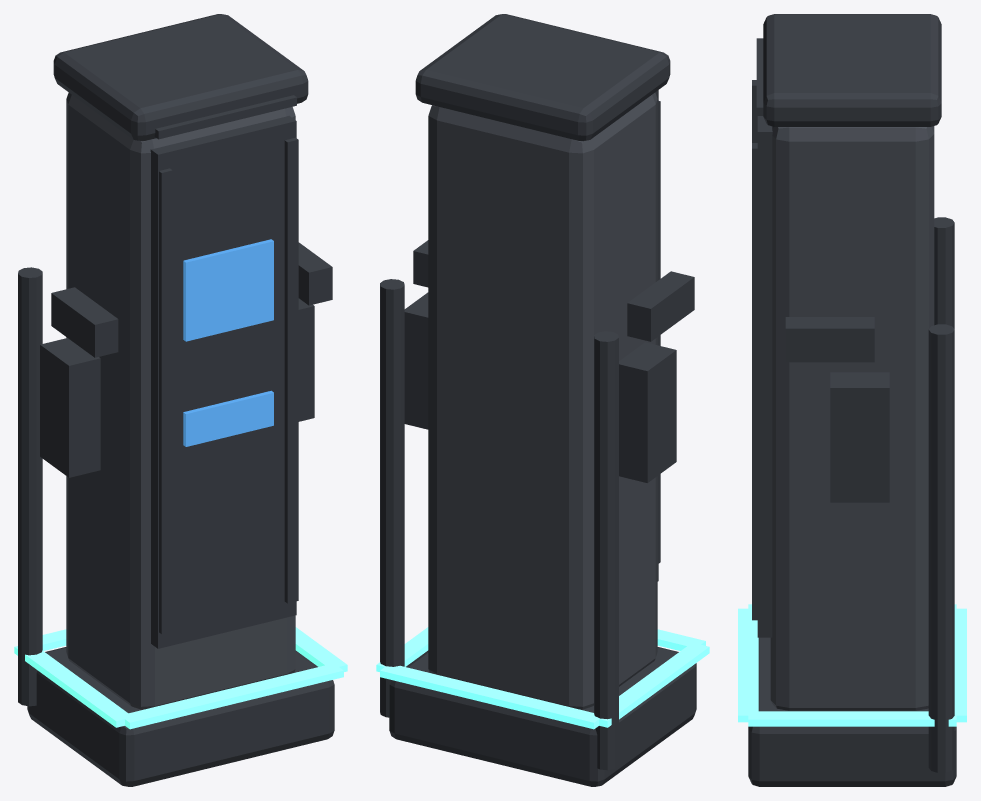
The model's file is charging_pile.glb.
3 views of the same model, side by side, from view 1: azimuth 30°, elevation 25°; view 2: azimuth 150°, elevation 25°; view 3: azimuth 270°, elevation 25° (orthographic). The views are drawn at different scales.
Parts seen in each view (by area): view 1: part_face, part_body, part_cap, part_base, part_cable_0, part_holster_0, part_screen, part_led_side_r, part_led_side_l, part_base_outline_x0, part_screen2, part_gun_0 (+5 smaller); view 2: part_body, part_cap, part_base, part_cable_0, part_cable_1, part_holster_0, part_base_outline_x1, part_gun_0, part_holster_1, part_base_outline_z0, part_led_side_l, part_base_outline_z1 (+3 smaller); view 3: part_body, part_cap, part_base, part_cable_1, part_face, part_holster_1, part_gun_1, part_base_outline_z1, part_led_side_r, part_cable_0, part_base_outline_x0, part_base_outline_x1 (+1 smaller).
Boxes of the visible parts, bbox=[...] form: part_face: bbox=[150, 115, 296, 648]; part_body: bbox=[66, 92, 295, 709]; part_cap: bbox=[53, 14, 308, 141]; part_base: bbox=[27, 647, 334, 786]; part_cable_0: bbox=[18, 267, 42, 706]; part_holster_0: bbox=[40, 338, 100, 477]; part_screen: bbox=[183, 239, 273, 341]; part_led_side_r: bbox=[284, 137, 298, 603]; part_led_side_l: bbox=[159, 168, 172, 634]; part_base_outline_x0: bbox=[120, 663, 343, 729]; part_screen2: bbox=[183, 390, 273, 446]; part_gun_0: bbox=[51, 287, 118, 357]; part_body: bbox=[428, 92, 657, 709]; part_cap: bbox=[415, 14, 670, 141]; part_base: bbox=[389, 647, 696, 786]; part_cable_0: bbox=[594, 331, 618, 770]; part_cable_1: bbox=[380, 279, 404, 717]; part_holster_0: bbox=[619, 342, 676, 482]; part_base_outline_x1: bbox=[380, 665, 599, 729]; part_gun_0: bbox=[627, 271, 694, 341]; part_holster_1: bbox=[404, 292, 428, 429]; part_base_outline_z0: bbox=[599, 644, 709, 727]; part_led_side_l: bbox=[658, 101, 660, 563]; part_base_outline_z1: bbox=[376, 627, 428, 671]; part_body: bbox=[770, 126, 934, 710]; part_cap: bbox=[763, 14, 941, 126]; part_base: bbox=[748, 637, 956, 786]; part_cable_1: bbox=[928, 324, 954, 772]; part_face: bbox=[757, 116, 772, 637]; part_holster_1: bbox=[830, 372, 889, 502]; part_gun_1: bbox=[785, 317, 874, 362]; part_base_outline_z1: bbox=[748, 711, 956, 726]; part_led_side_r: bbox=[752, 143, 757, 620]; part_cable_0: bbox=[934, 217, 954, 328]; part_base_outline_x0: bbox=[738, 608, 758, 722]; part_base_outline_x1: bbox=[954, 608, 966, 722].
Bounding box in the file's own units: 0.78 × 2.03 × 0.615.
